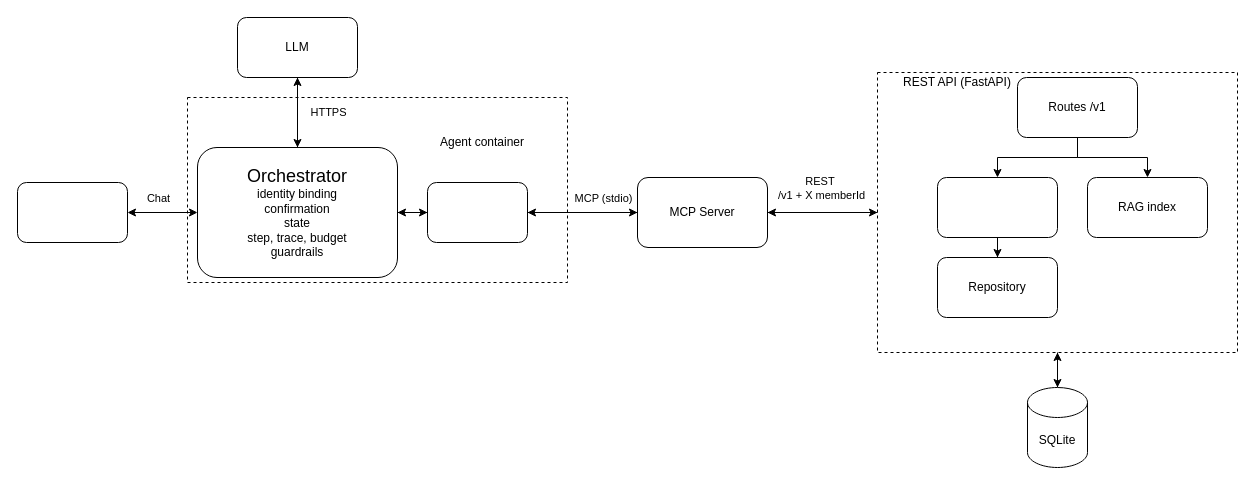
This 1255x485 diagram has some shape labels left out. Here are the shapes that lost their labels. From the top down, the box of each, then its label:
(16, 182, 128, 242): User
(426, 182, 528, 242): Toolbox mcp client adapter
(936, 176, 1058, 238): Service use cases / rules
